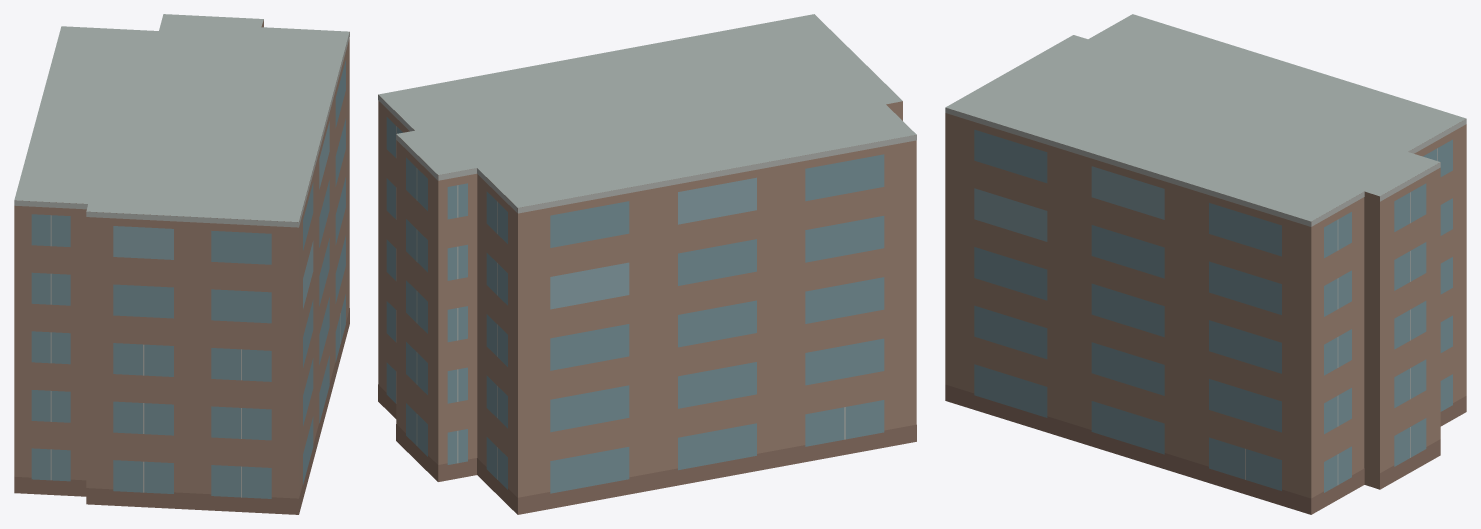
The model's file is survey-upis-32712240.glb.
The picture shows the model from 3 angles, left to right: view 1: azimuth 30°, elevation 25°; view 2: azimuth 150°, elevation 25°; view 3: azimuth 270°, elevation 25°; orthographic projection. The views are drawn at different scales.
Visible parts, largest first — view 1: survey-upis-32712240.tmp; view 2: survey-upis-32712240.tmp; view 3: survey-upis-32712240.tmp.
Part boxes in pixels (x1,y1,x2,y2): survey-upis-32712240.tmp: (14,14,349,514); survey-upis-32712240.tmp: (378,14,916,514); survey-upis-32712240.tmp: (945,14,1466,514).
Size of the model in its own units: 20.04 by 13.2 by 21.27.
